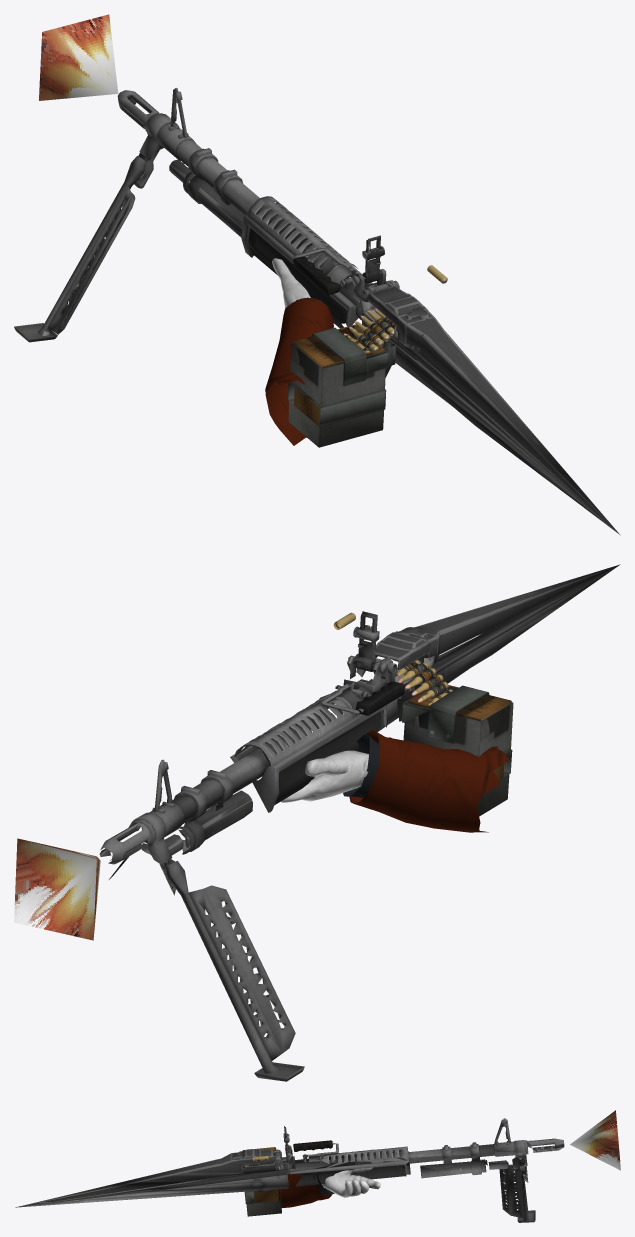
File: frame_4.obj
The picture shows the model from 3 angles, top to bottom: view 1: azimuth 30°, elevation 25°; view 2: azimuth 150°, elevation 25°; view 3: azimuth 270°, elevation 25°; orthographic projection. The views are drawn at different scales.
Parts seen in each view (by area): view 1: Mesh.005, Plane, PlayerModelMerged.001_PlayerModelMerged, Mesh.001; view 2: Mesh.005, PlayerModelMerged.001_PlayerModelMerged, Plane, Mesh.001; view 3: Mesh.005, PlayerModelMerged.001_PlayerModelMerged, Plane.
Boxes of the visible parts, x1,y1,x2,y2 form: Mesh.005: (14,88,620,535); Plane: (39,14,118,100); PlayerModelMerged.001_PlayerModelMerged: (265,258,333,445); Mesh.001: (343,308,395,352); Mesh.005: (99,564,620,1081); PlayerModelMerged.001_PlayerModelMerged: (280,730,508,832); Plane: (14,838,100,940); Mesh.001: (397,660,452,705); Mesh.005: (15,1118,564,1222); PlayerModelMerged.001_PlayerModelMerged: (277,1167,380,1207); Plane: (570,1110,620,1170).
Size of the model in its own units: 0.5227 by 0.6125 by 2.48.
